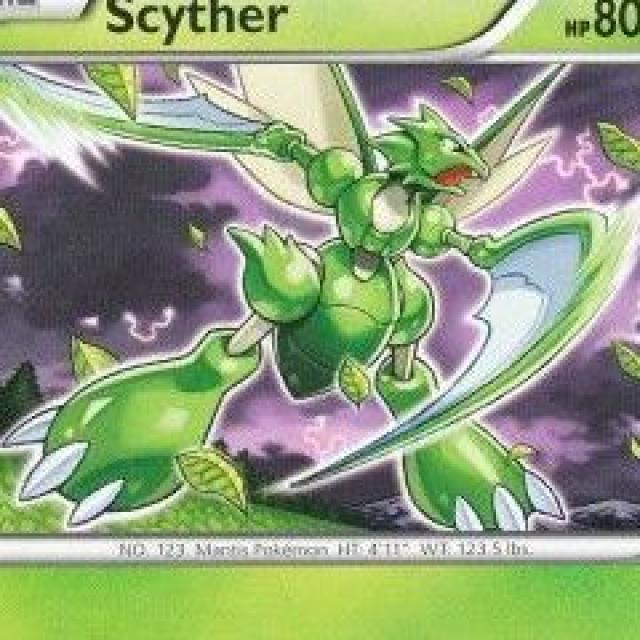Scyther: (0, 56, 638, 530)
